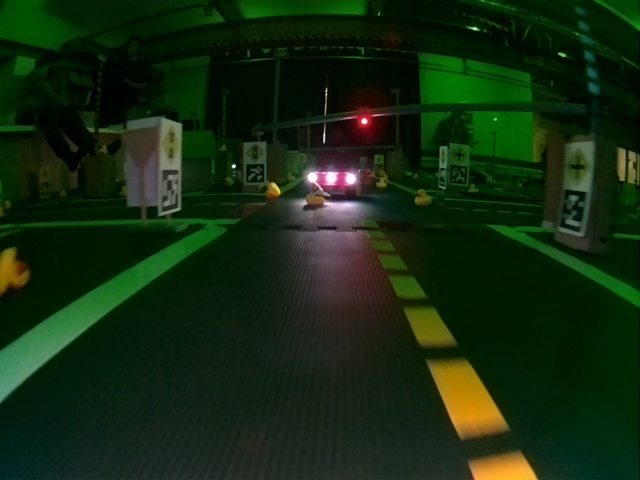Duckie: (2, 248, 30, 295), (416, 190, 433, 201), (308, 194, 325, 205), (266, 184, 280, 197), (378, 178, 386, 185)
Duckiebot: (307, 158, 362, 197)
Intersection sign: (565, 145, 590, 187), (454, 145, 469, 164)
QR code: (561, 190, 586, 234), (160, 172, 180, 213), (246, 164, 263, 184), (451, 165, 467, 185), (440, 168, 448, 187)
Signal sign: (162, 123, 181, 166), (247, 144, 265, 161)
Traffic light: (358, 111, 370, 128)
